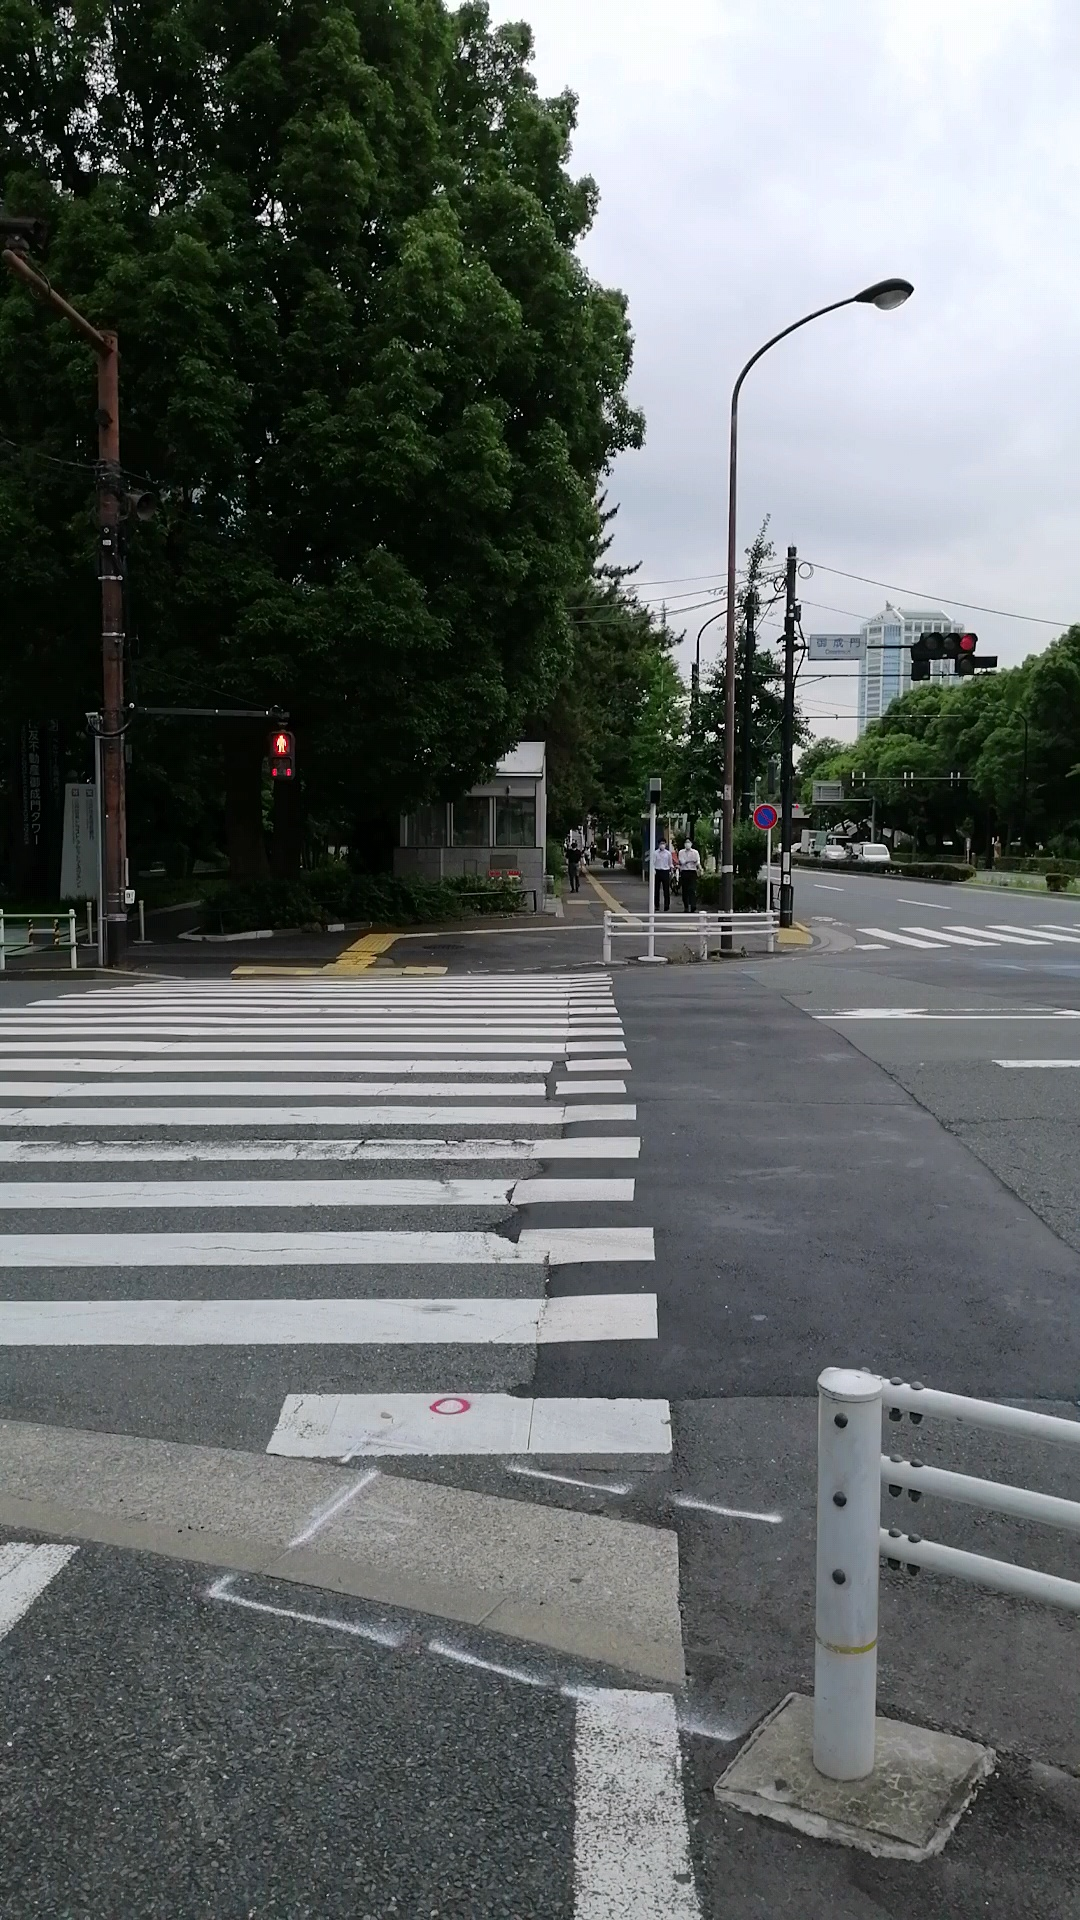red: (264, 731, 297, 785)
